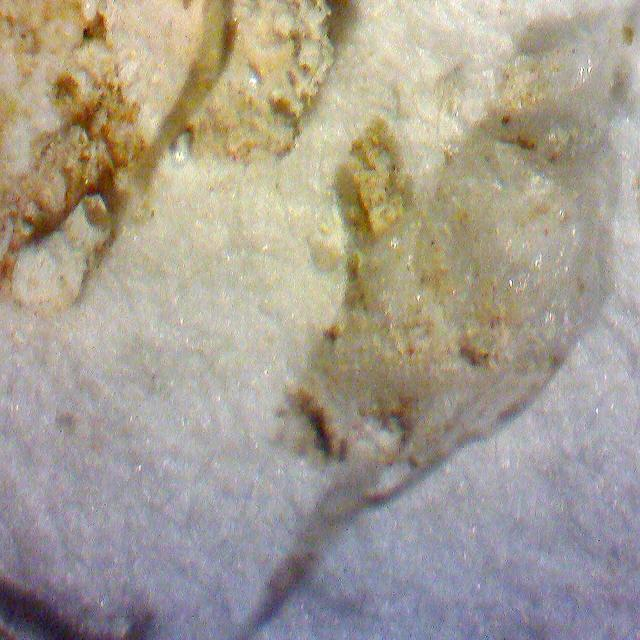microplastic: (242, 2, 631, 638)
